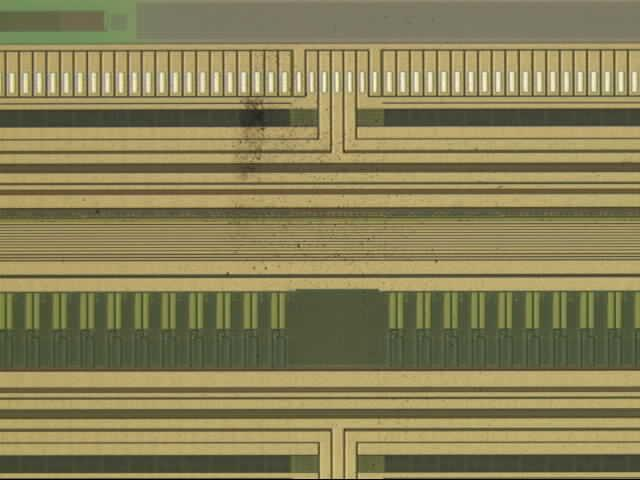PO CONTAMINATION: (212, 77, 454, 285)
